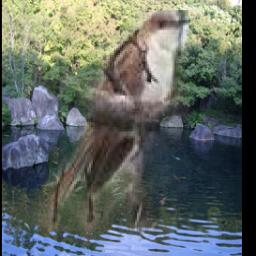Cuckoo: (29, 10, 188, 232)
